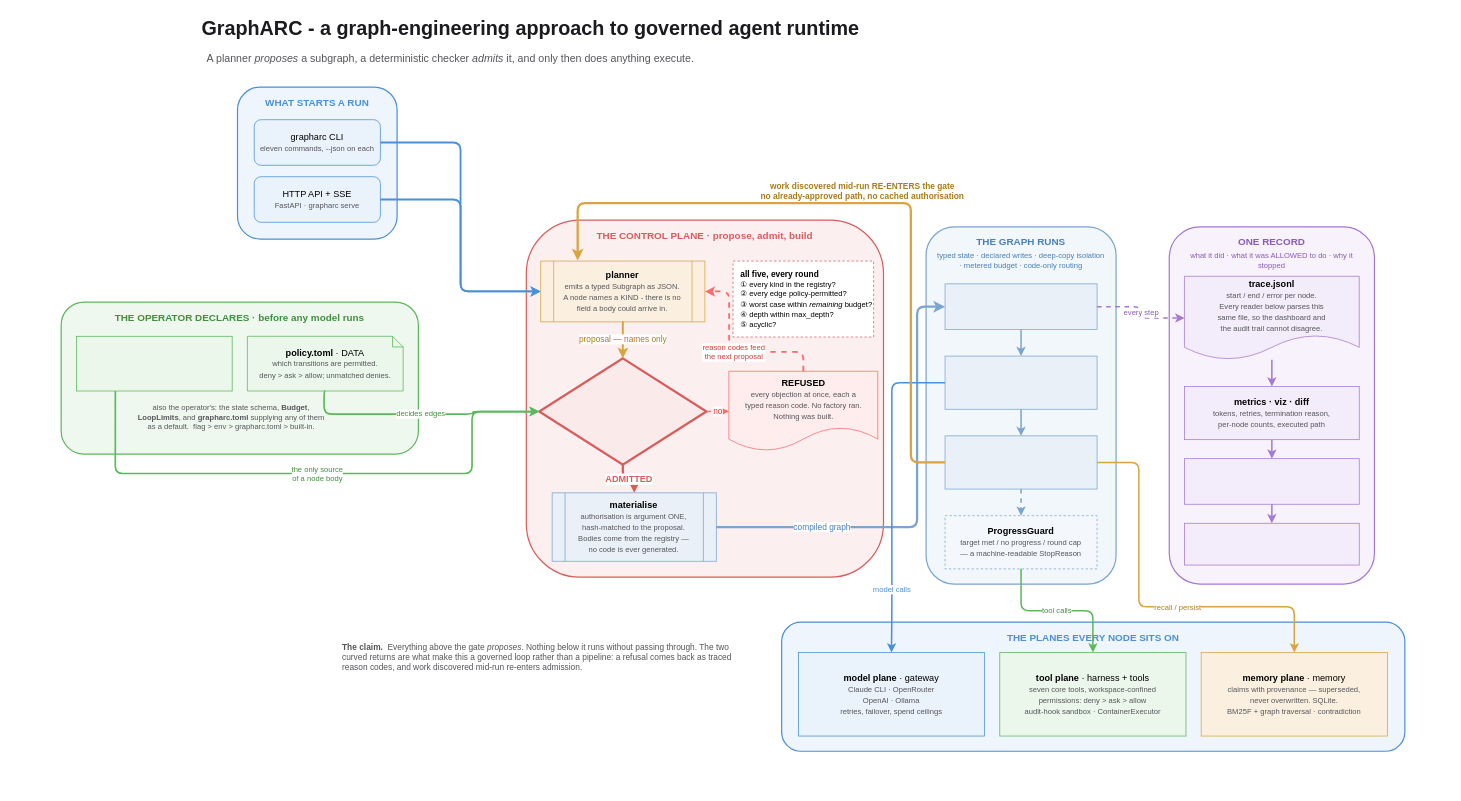
The diagram is 1461 pixels wide and 801 high, and some of its shapes have lost their labels. The centre of each missing label's shape, as x and y in pixels:
ADMISSION deterministic model-free: (x=622, y=411)
agent nodes observe → model → permission → sandboxed tool → repeat: (x=1020, y=382)
kernel grapharc.runtime: (x=1020, y=306)
OpenTelemetry · cost attribution: (x=1271, y=543)
registry · CODE a name → a real function. Absence is refusal; no wildcard.: (x=154, y=363)
replay the trace is the replay point: (x=1271, y=481)
verifiers fresh context, anchored to deterministic evidence: (x=1020, y=462)
